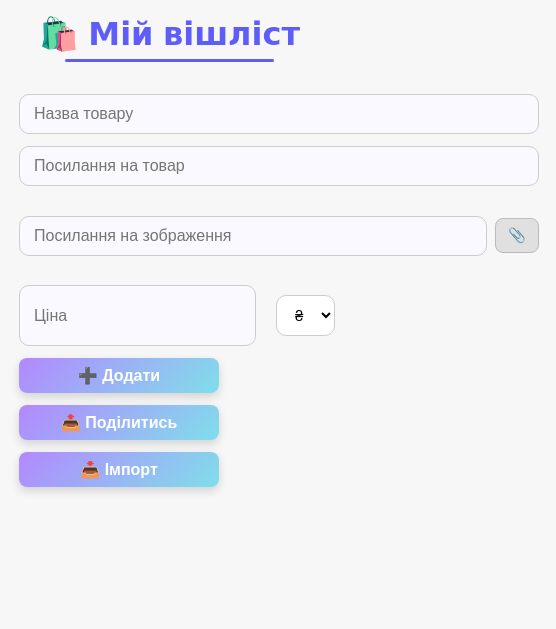
Scenario: додає новий елемент у список
Type "Ноутбук" into the field with placeholder "Назва товару". click: {"x": 279, "y": 114}
box: [19,94,539,134]
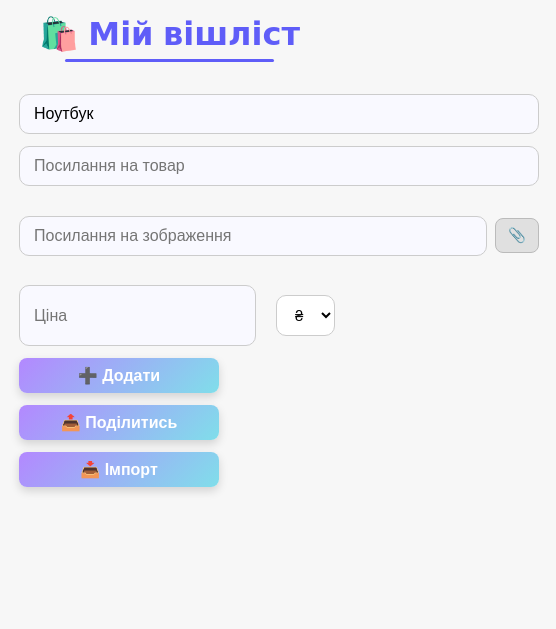
Type "1000" into the number field with placeholder "Ціна". click: {"x": 138, "y": 316}
box: [19,285,256,346]
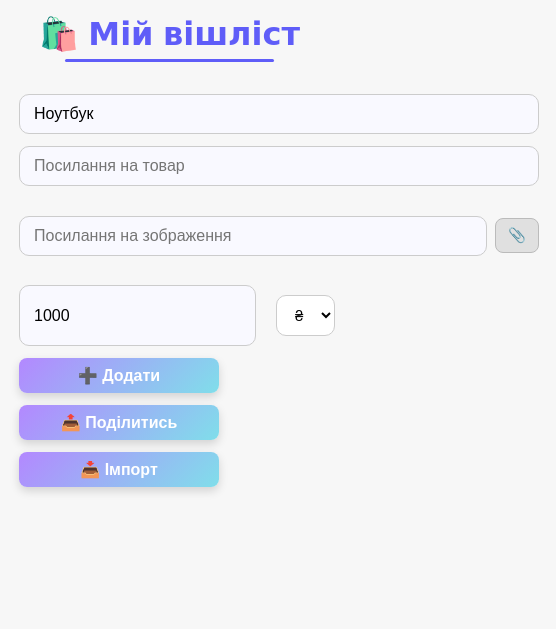
Click the button "➕ Додати". click: {"x": 119, "y": 376}
box: [19,358,219,393]
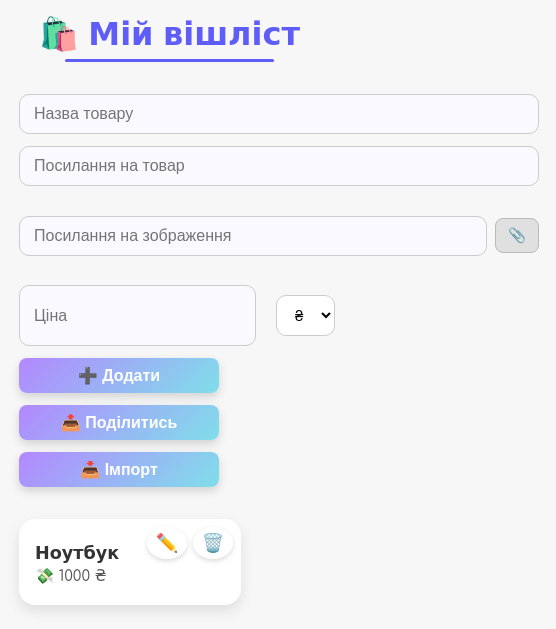
Expected: the heading "Ноутбук" is shown, [35,543,119,563]
Expected: the text "💸 1000 ₴" is shown, [35,568,106,585]
